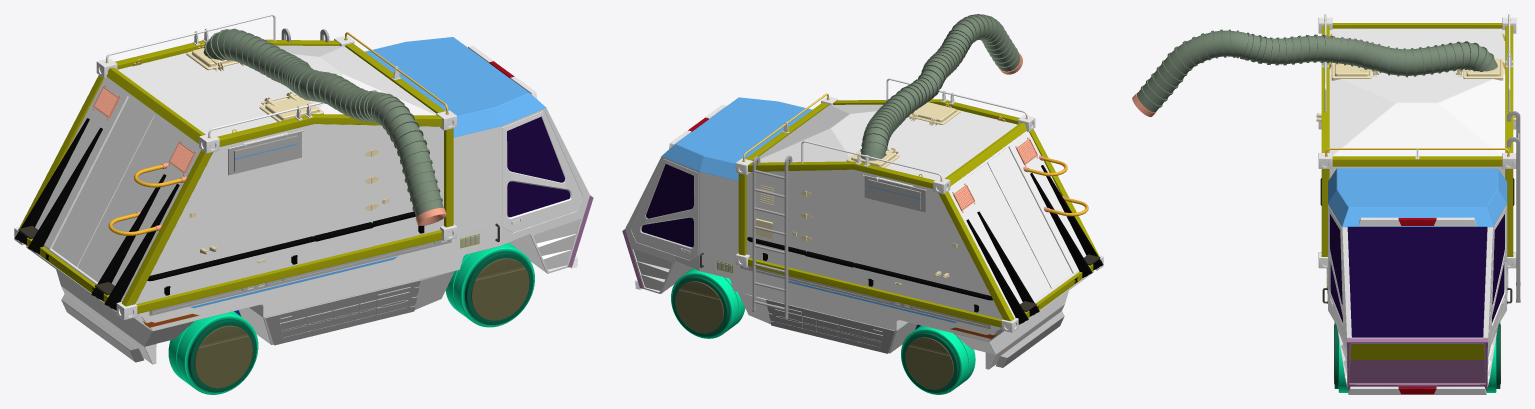
File: SM_GarbageTruck_01.FBX
3 views of the same model, side by side, from view 1: azimuth 30°, elevation 25°; view 2: azimuth 150°, elevation 25°; view 3: azimuth 270°, elevation 25° (orthographic). The views are drawn at different scales.
Visible parts, largest first — view 1: SM_GarbageTruck_01; view 2: SM_GarbageTruck_01; view 3: SM_GarbageTruck_01.
Part boxes in pixels (<box>): SM_GarbageTruck_01: <box>14,14,593,394</box>; SM_GarbageTruck_01: <box>622,14,1103,394</box>; SM_GarbageTruck_01: <box>1132,14,1520,394</box>.
Bounding box in the file's own units: 698 × 529 × 427.
